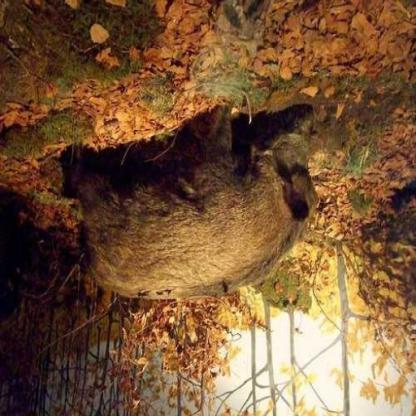boar: (48, 77, 330, 356)
